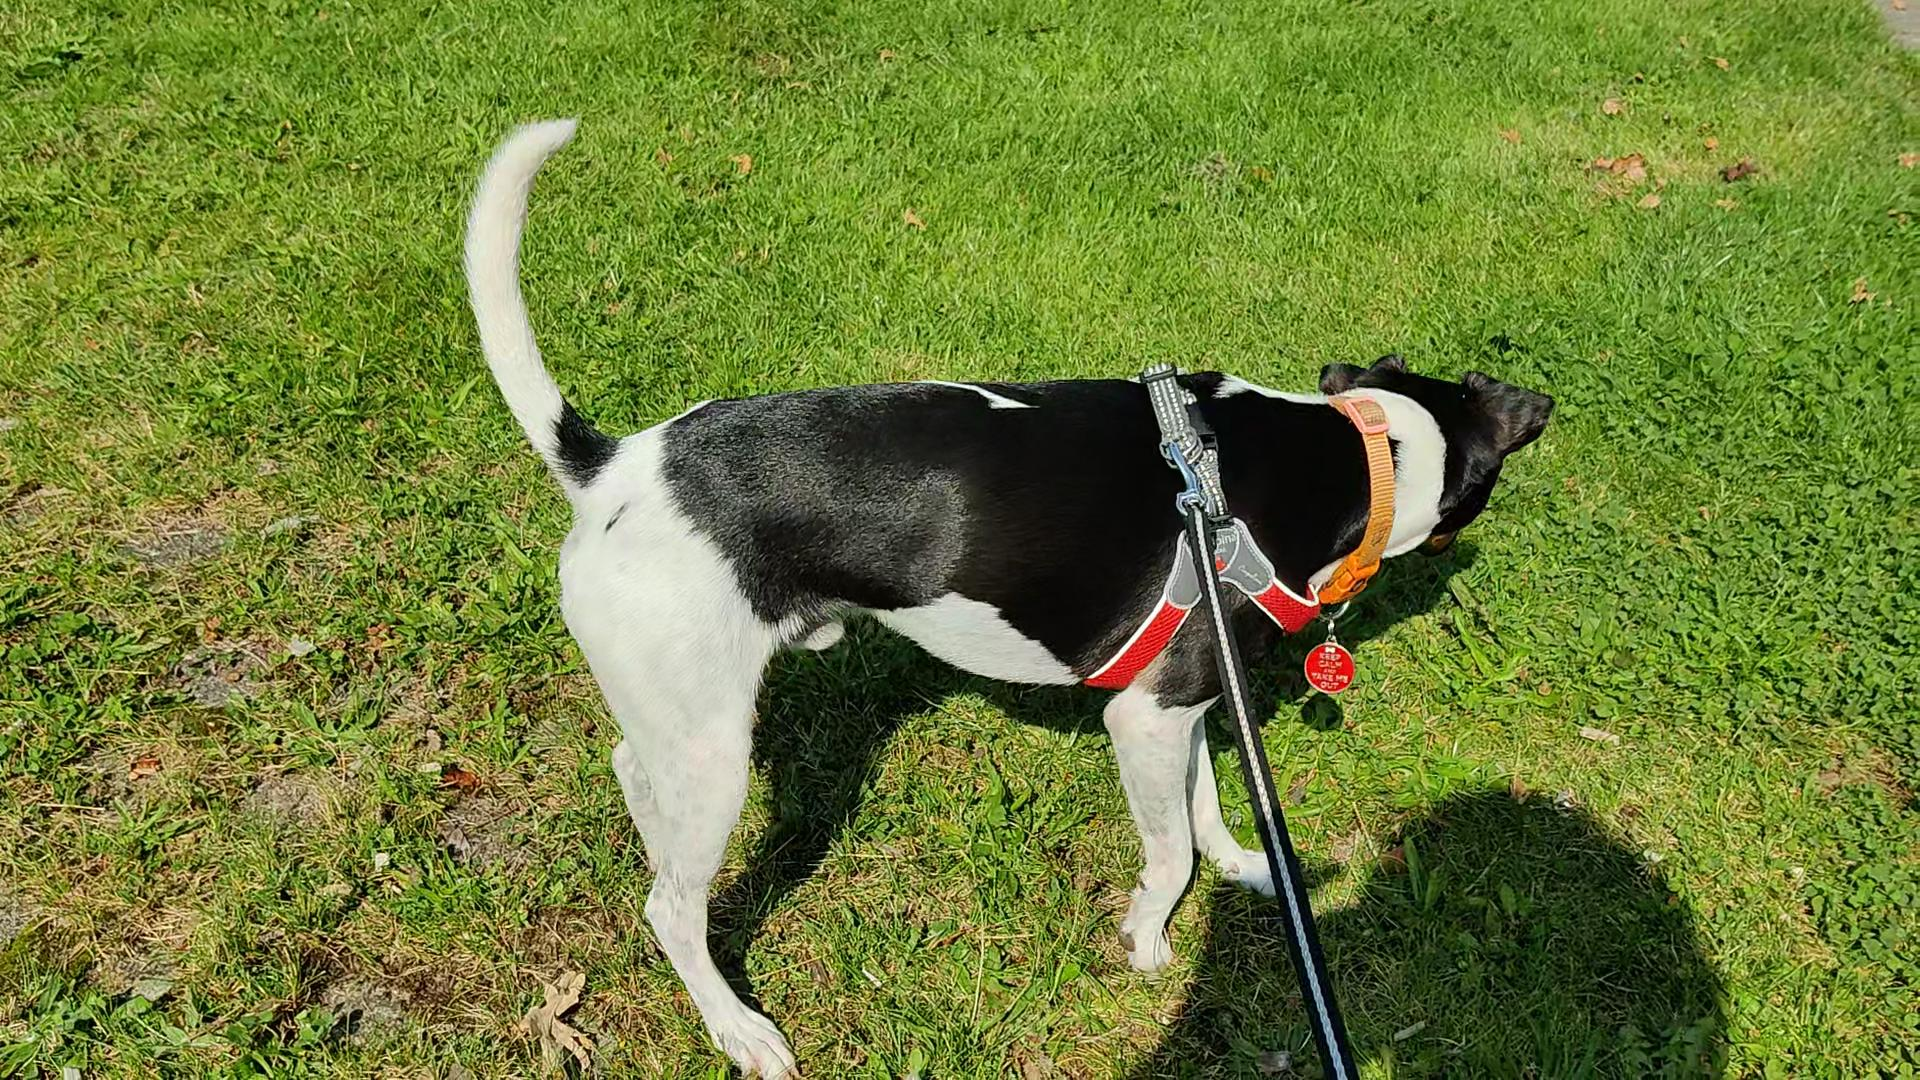Dog: (436, 98, 1569, 1079)
